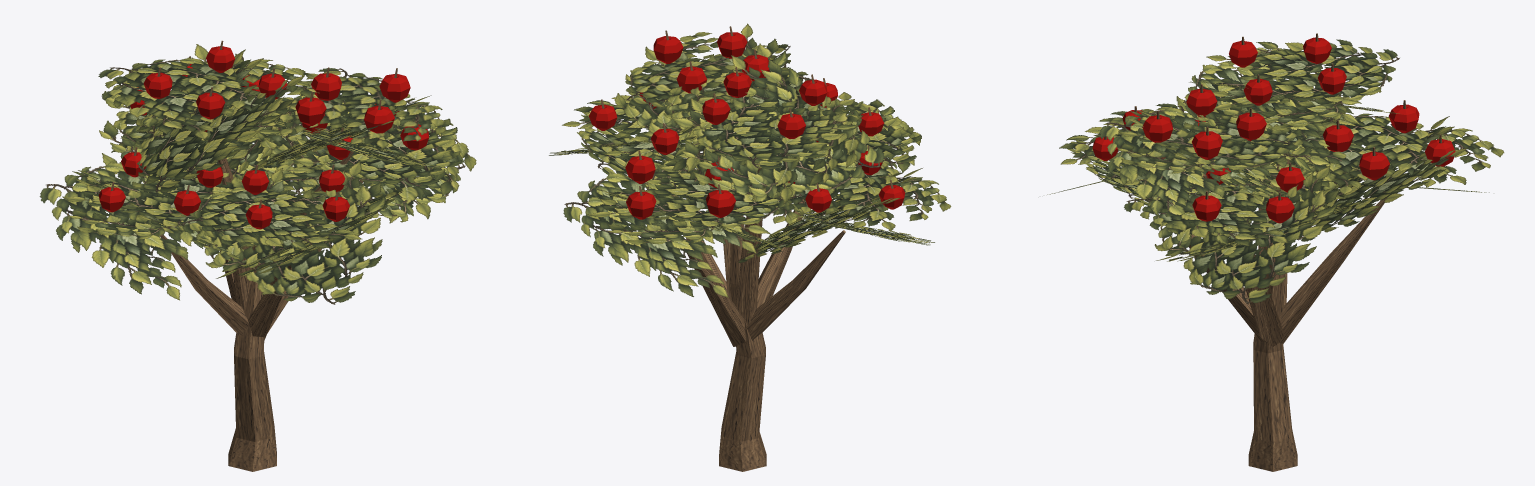
File: Melo_01.obj
3 renders of one model, left to right at view 1: azimuth 30°, elevation 25°; view 2: azimuth 150°, elevation 25°; view 3: azimuth 270°, elevation 25°, orthographic. The views are drawn at different scales.
Parts seen in each view (by area): view 1: Melo_01; view 2: Melo_01; view 3: Melo_01.
Boxes of the visible parts, left/top/right/bottom form: Melo_01: left=39, top=40, right=476, bottom=471; Melo_01: left=549, top=23, right=951, bottom=471; Melo_01: left=1047, top=33, right=1504, bottom=471.
Bounding box in the file's own units: 3.98 × 3.57 × 4.12.
